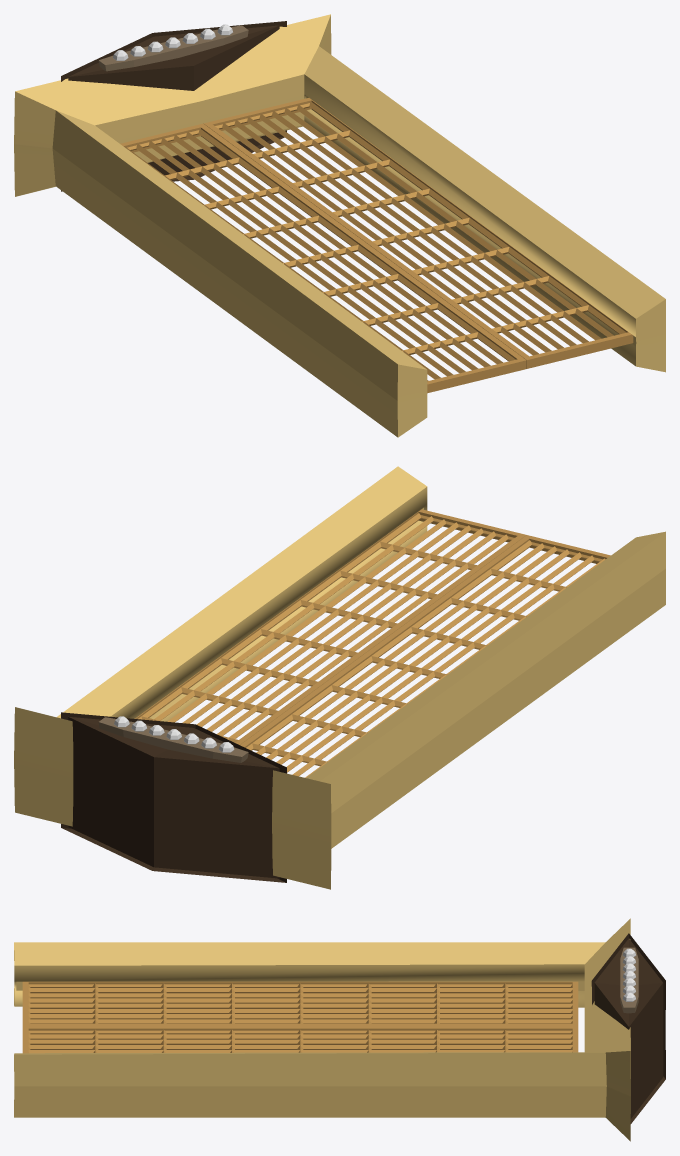
Rendered from ElevatorDoor.fbx.
The picture shows the model from 3 angles, top to bottom: view 1: azimuth 30°, elevation 25°; view 2: azimuth 150°, elevation 25°; view 3: azimuth 270°, elevation 25°; orthographic projection. The views are drawn at different scales.
Visible parts, largest first — view 1: Doorframe, LatticeRight, LatticeLeft, DoorOrnament, LatticeFrameRight, LatticeFrameLeft, BulbSlots, Bulbs; view 2: Doorframe, DoorOrnament, LatticeRight, LatticeLeft, LatticeFrameRight, LatticeFrameLeft, BulbSlots, Bulbs; view 3: Doorframe, LatticeLeft, LatticeRight, DoorOrnament, LatticeFrameLeft, LatticeFrameRight, BulbSlots, Bulbs.
Boxes of the visible parts, x1,y1,x2,y2 form: Doorframe: (14, 14, 665, 437); LatticeRight: (215, 102, 626, 355); LatticeLeft: (125, 129, 515, 381); DoorOrnament: (61, 21, 286, 191); LatticeFrameRight: (203, 98, 633, 368); LatticeFrameLeft: (120, 123, 526, 393); BulbSlots: (98, 25, 248, 71); Bulbs: (113, 24, 232, 60); Doorframe: (14, 466, 665, 889); DoorOrnament: (61, 712, 286, 882); LatticeRight: (138, 513, 514, 742); LatticeLeft: (246, 540, 605, 777); LatticeFrameRight: (135, 509, 526, 744); LatticeFrameLeft: (240, 535, 610, 750); BulbSlots: (98, 717, 248, 762); Bulbs: (114, 716, 234, 752); Doorframe: (14, 918, 630, 1141); LatticeLeft: (28, 983, 572, 1023); LatticeRight: (28, 1030, 572, 1053); DoorOrnament: (591, 933, 665, 1123); LatticeFrameLeft: (22, 981, 578, 1026); LatticeFrameRight: (22, 1026, 578, 1053); BulbSlots: (620, 947, 638, 1013); Bulbs: (622, 948, 635, 1001).
Bounding box in the file's own units: 1.49 × 0.58 × 3.09.
